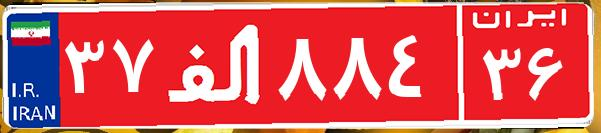3: (57, 26, 110, 107), (475, 38, 525, 113)
4: (385, 28, 445, 110)
6: (525, 38, 570, 115)
7: (110, 28, 158, 105)
8: (273, 28, 330, 110), (330, 28, 385, 110)
الف: (158, 15, 273, 115)
